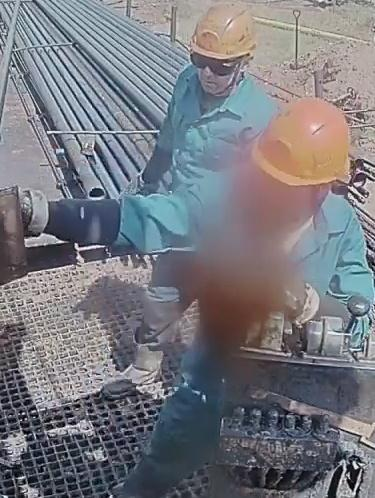gloves: (243, 264, 315, 319), (0, 183, 58, 240)
goggles: (189, 51, 241, 76)
helmet: (251, 96, 350, 186), (189, 1, 256, 60)
vest: (206, 174, 344, 391), (171, 70, 267, 197)
